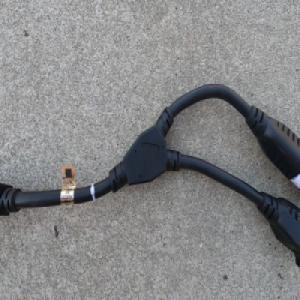Wire: (0, 81, 300, 268)
